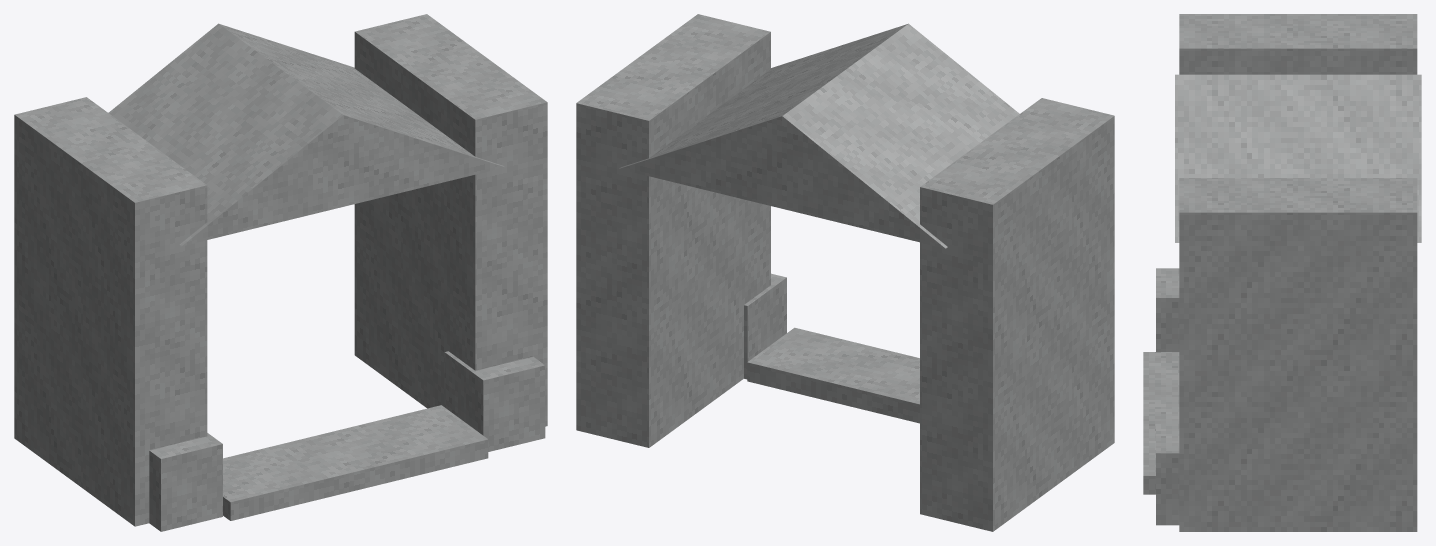
File: level_blockout_cave_bend_modules.glb
The picture shows the model from 3 angles, left to right: view 1: azimuth 30°, elevation 25°; view 2: azimuth 150°, elevation 25°; view 3: azimuth 270°, elevation 25°; orthographic projection. The views are drawn at different scales.
Visible parts, largest first — view 1: level_blockout_cave_bend_modules; view 2: level_blockout_cave_bend_modules; view 3: level_blockout_cave_bend_modules.
Part boxes in pixels (left/top/right/bottom): level_blockout_cave_bend_modules: left=14, top=14, right=547, bottom=531; level_blockout_cave_bend_modules: left=576, top=14, right=1114, bottom=531; level_blockout_cave_bend_modules: left=1143, top=14, right=1421, bottom=531.
Bounding box in the file's own units: 3.2 × 2.69 × 1.89.
1 material, 1 textured.
